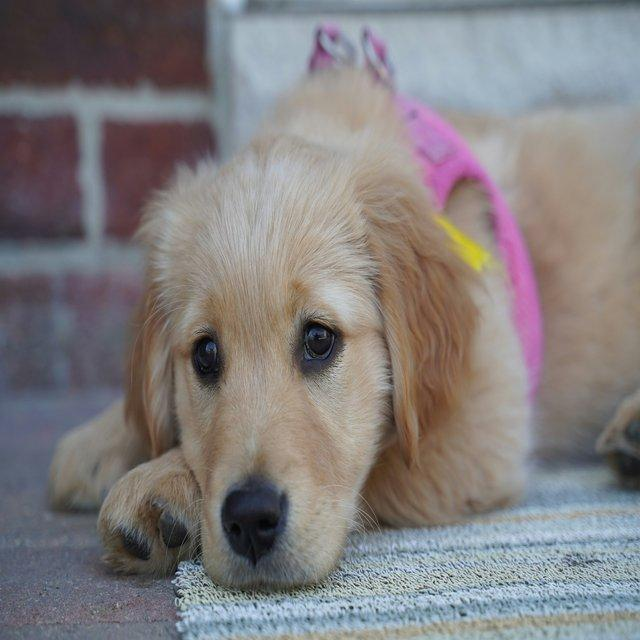retriever: (45, 55, 638, 592)
